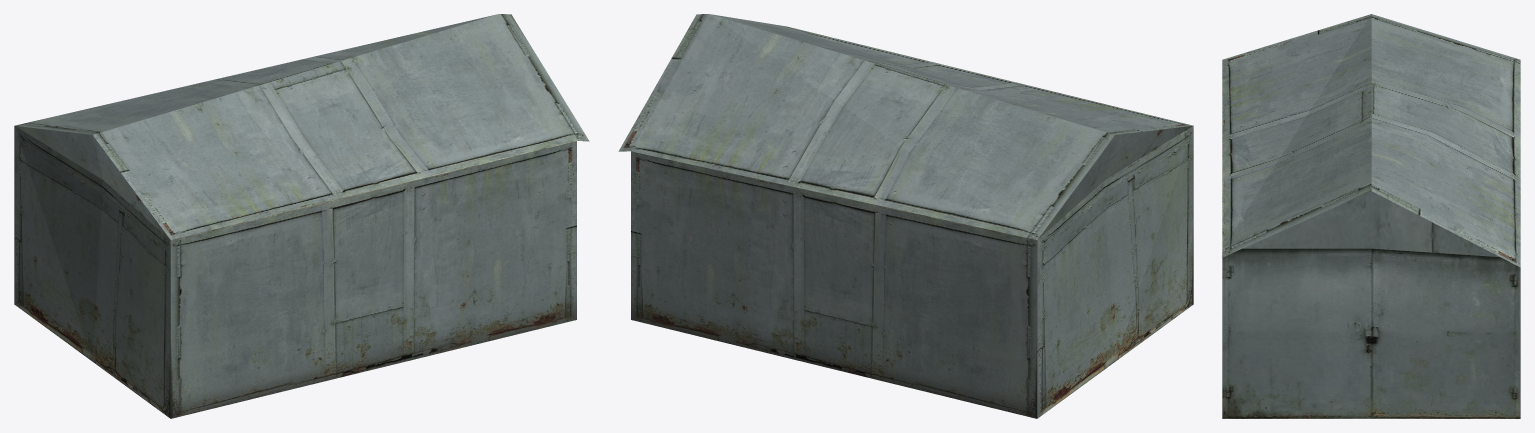
Rendered from garage_tin_1.glb.
3 views of the same model, side by side, from view 1: azimuth 30°, elevation 25°; view 2: azimuth 150°, elevation 25°; view 3: azimuth 270°, elevation 25° (orthographic). The views are drawn at different scales.
Parts seen in each view (by area): view 1: garage_tin_1; view 2: garage_tin_1; view 3: garage_tin_1.
Part boxes in pixels (x1,y1,x2,y2): garage_tin_1: (14,14,589,418); garage_tin_1: (618,14,1193,418); garage_tin_1: (1222,14,1520,418).
Size of the model in its own units: 4.33 by 2.46 by 2.8.
1 material, 1 textured.
